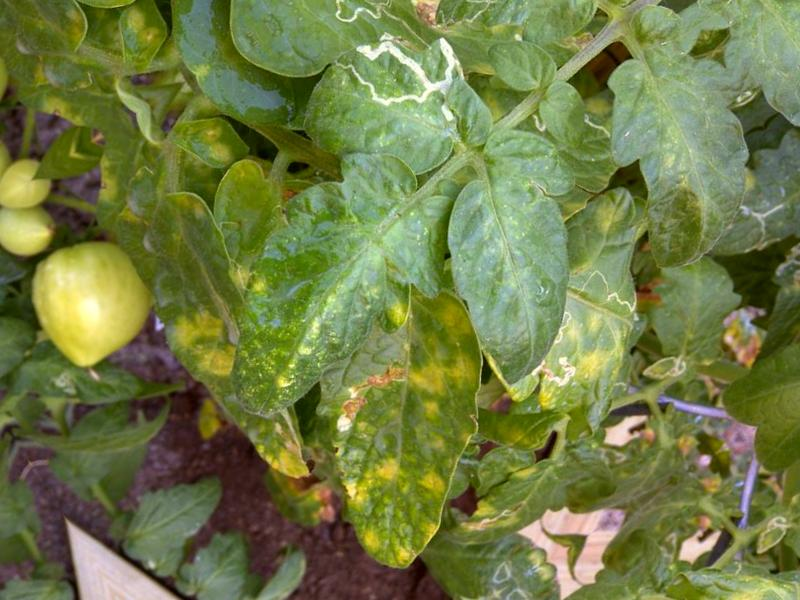Tomato mold leaf: (143, 116, 501, 439), (242, 259, 567, 592), (527, 0, 800, 316), (385, 129, 647, 402), (403, 0, 621, 107)
